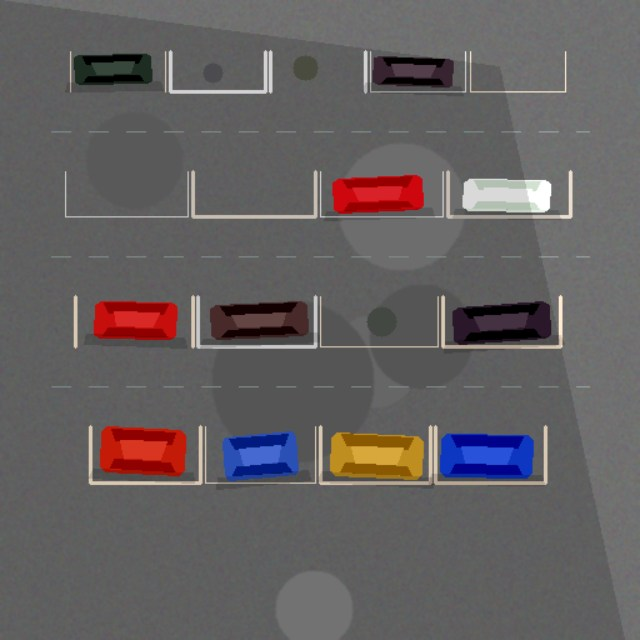space-empty: (320, 296, 438, 346), (65, 171, 188, 216), (192, 171, 315, 216), (170, 51, 265, 91), (270, 51, 365, 91), (470, 51, 565, 91)
space-occupied: (90, 426, 200, 483), (205, 426, 315, 483), (320, 426, 430, 483), (435, 426, 545, 483), (442, 296, 560, 346), (75, 296, 192, 346), (198, 296, 315, 346), (320, 171, 442, 216), (448, 171, 570, 216), (70, 51, 165, 91), (370, 51, 465, 91)
